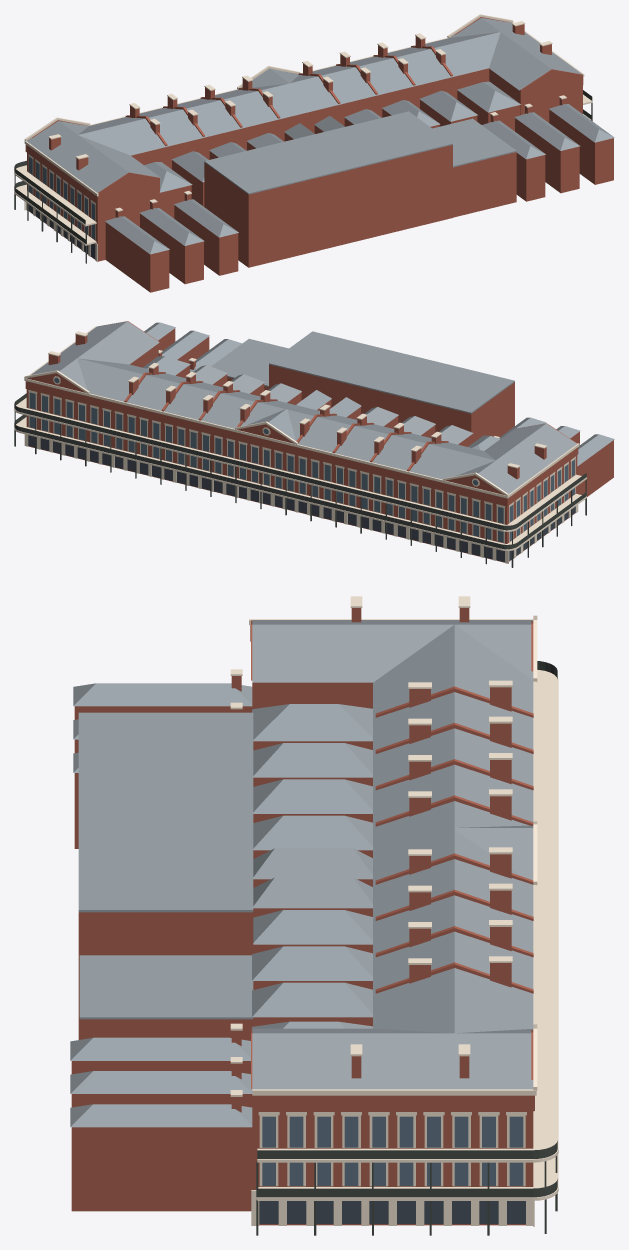
Rendered from nola-upper-pontalba.glb.
3 renders of one model, top to bottom at view 1: azimuth 30°, elevation 25°; view 2: azimuth 150°, elevation 25°; view 3: azimuth 270°, elevation 25°, orthographic. The views are drawn at different scales.
Visible parts, largest first — view 1: Upper Pontalba Building; view 2: Upper Pontalba Building; view 3: Upper Pontalba Building.
Boxes of the visible parts, box(x1,y1,x2,y2) form: Upper Pontalba Building: box(14, 14, 614, 292); Upper Pontalba Building: box(14, 321, 614, 567); Upper Pontalba Building: box(70, 596, 558, 1235).
Bounding box in the file's own units: 118 × 19.1 × 49.75.
